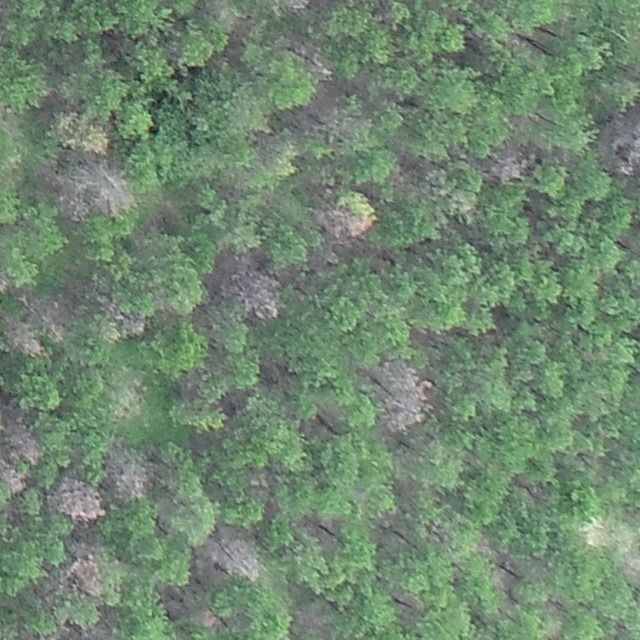unhealthy: (214, 250, 285, 321), (375, 359, 433, 429), (83, 156, 138, 214), (200, 533, 263, 579), (598, 109, 637, 179), (104, 446, 152, 501), (40, 161, 82, 222), (49, 476, 102, 524), (99, 296, 152, 340), (283, 34, 333, 80), (316, 204, 371, 243), (0, 418, 43, 466), (0, 316, 43, 358), (488, 145, 531, 183), (65, 556, 103, 595), (25, 297, 66, 332), (292, 601, 331, 637), (0, 464, 29, 496), (64, 621, 115, 639), (619, 551, 640, 592), (199, 608, 223, 630), (281, 0, 311, 11), (0, 269, 12, 295)
